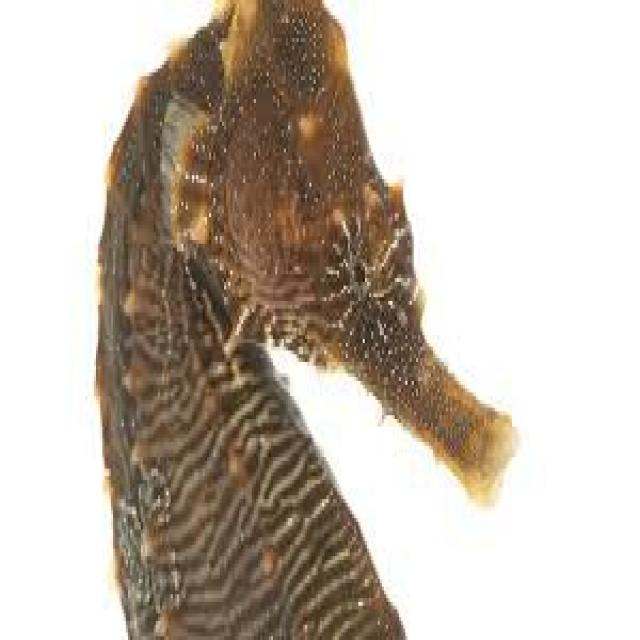seahorse: (96, 0, 510, 636)
